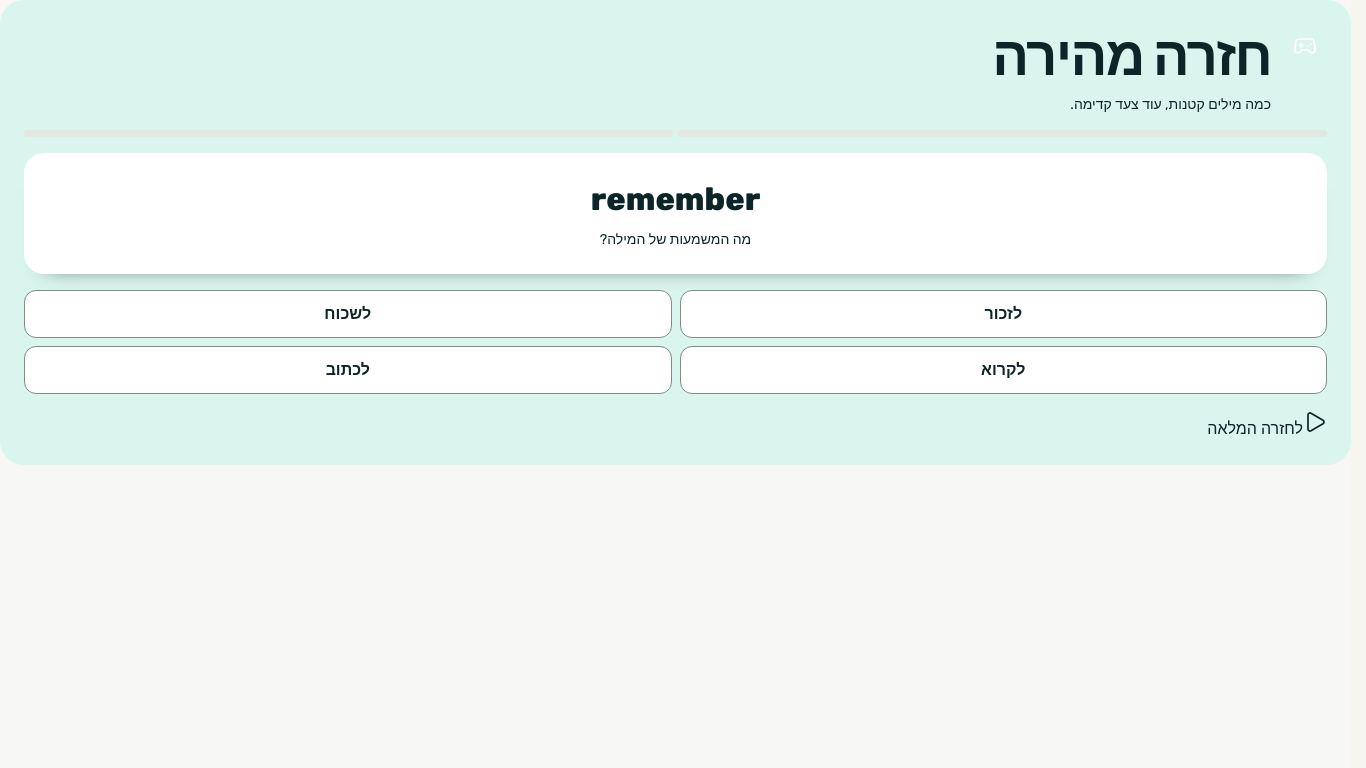
Scenario: dashboard quick review › keeps the red correction toast visible after automatic advance without celebrating or duplicate scoring
The width and height of the screenshot is (1366, 768).
Click the button "לשכוח" at (348, 314), box [24,290,672,338]
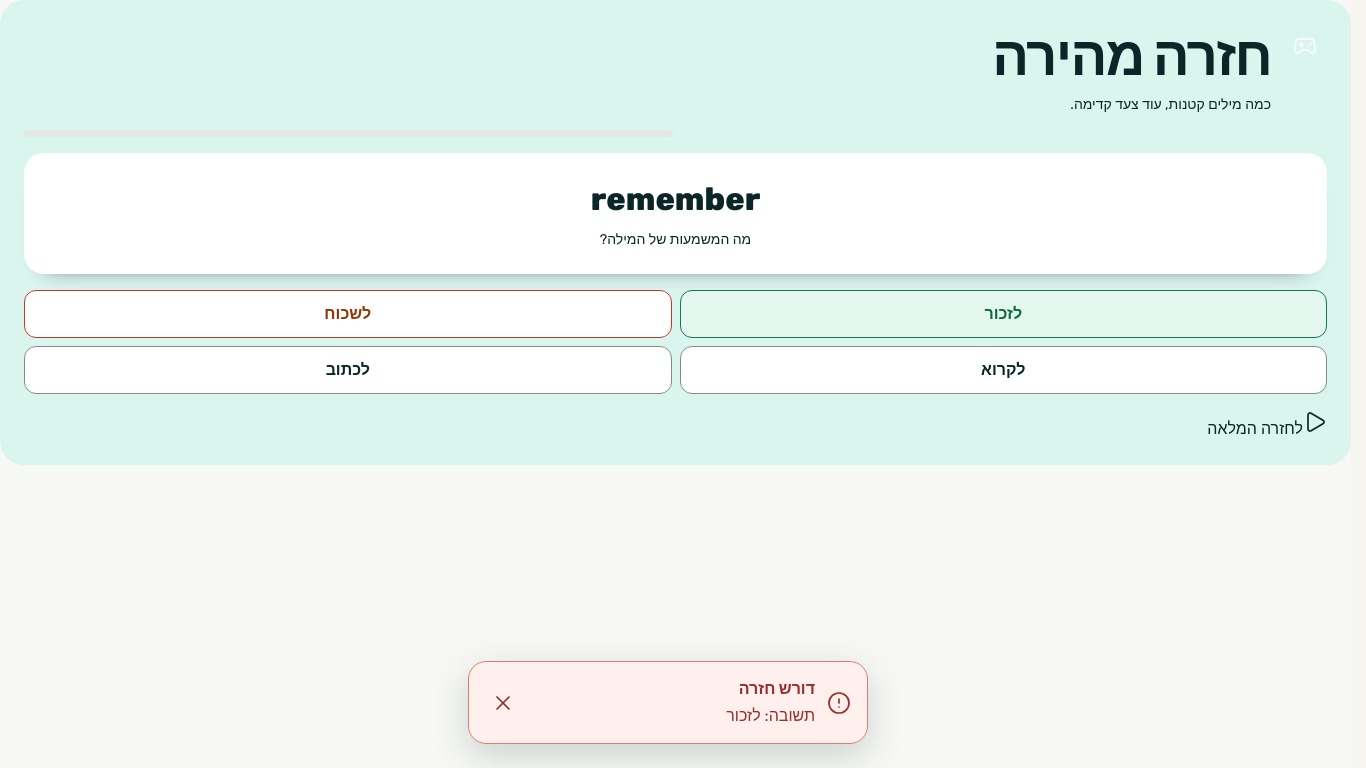
Check: the message with class "error" shows "לזכור", box [726,706,815,725]
Click the button "לשכוח" at (348, 314), box [24,290,672,338]
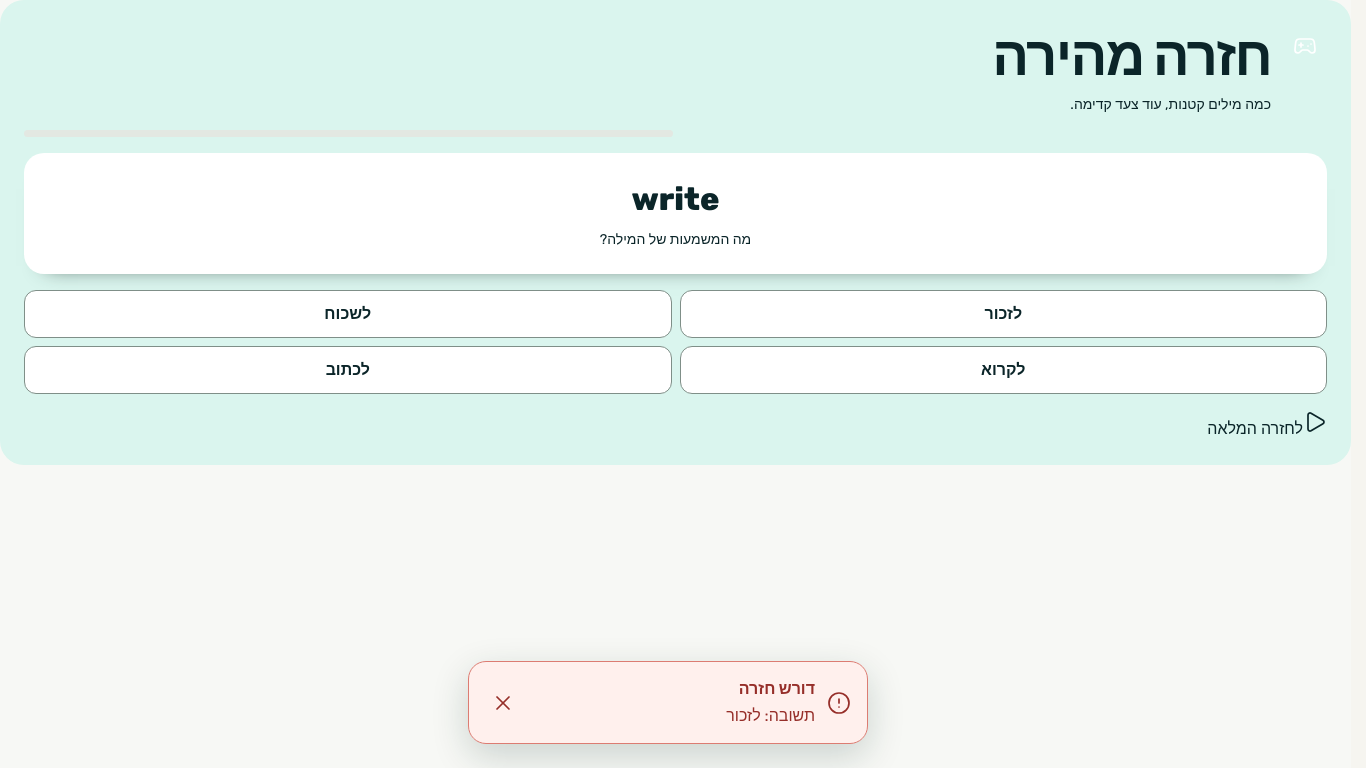
Check: the message with class "error" shows "לזכור", box [726,706,815,725]
Check: the text "write" is shown, box [632,180,720,218]
Click the button named "סגירת ההודעה" at (503, 703), box [485,685,521,721]
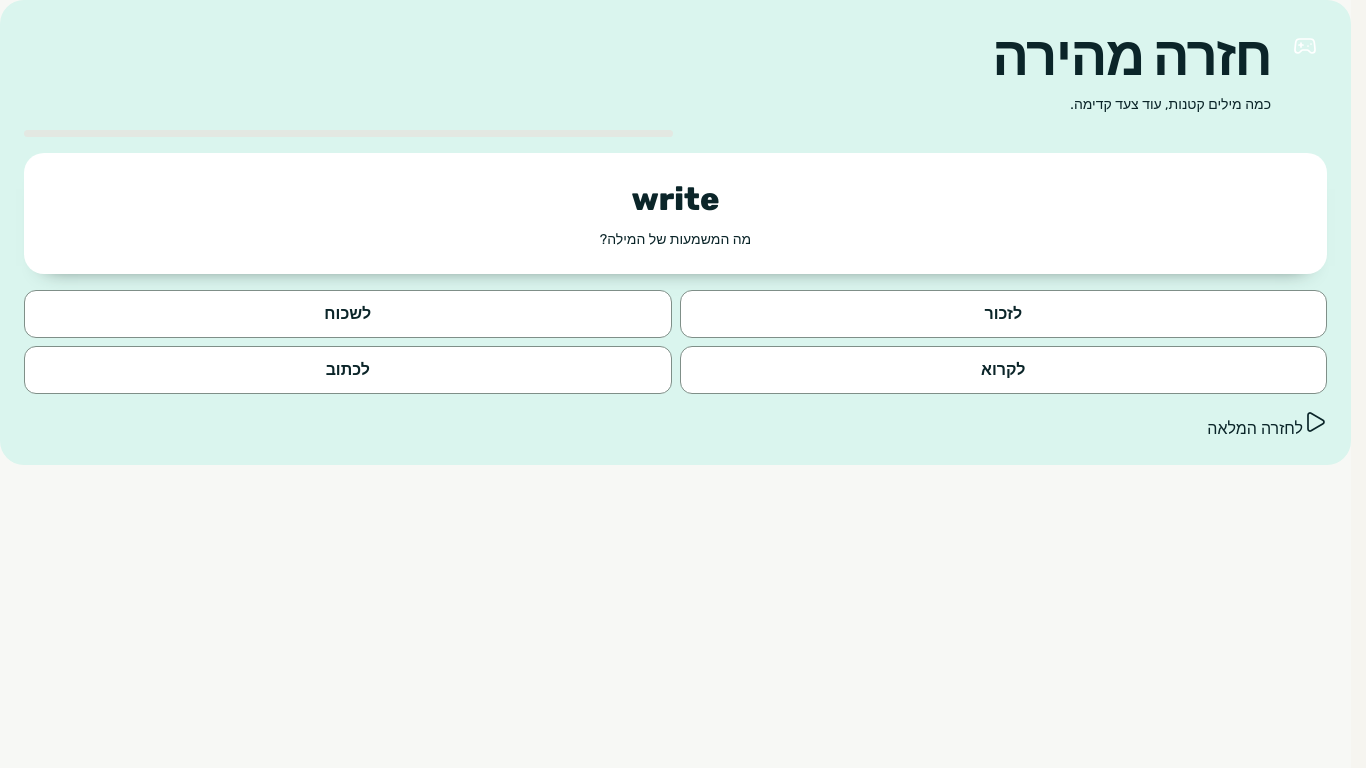
Check: the button "לשכוח" is enabled, box [24,290,672,338]
Check: the message with class "nd-answer-toast" is gone
